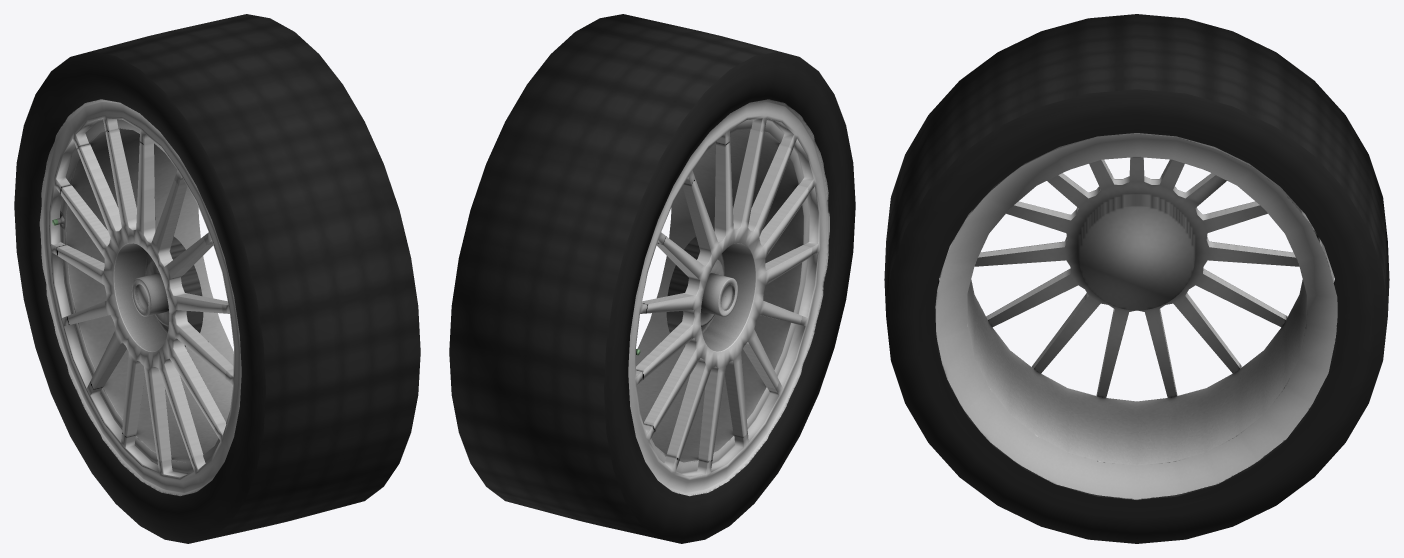
File: FN_wheel.obj
3 renders of one model, left to right at view 1: azimuth 30°, elevation 25°; view 2: azimuth 150°, elevation 25°; view 3: azimuth 270°, elevation 25°, orthographic.
Size of the model in its own units: 0.2179 by 0.6068 by 0.6068.
1 material, 1 textured.
